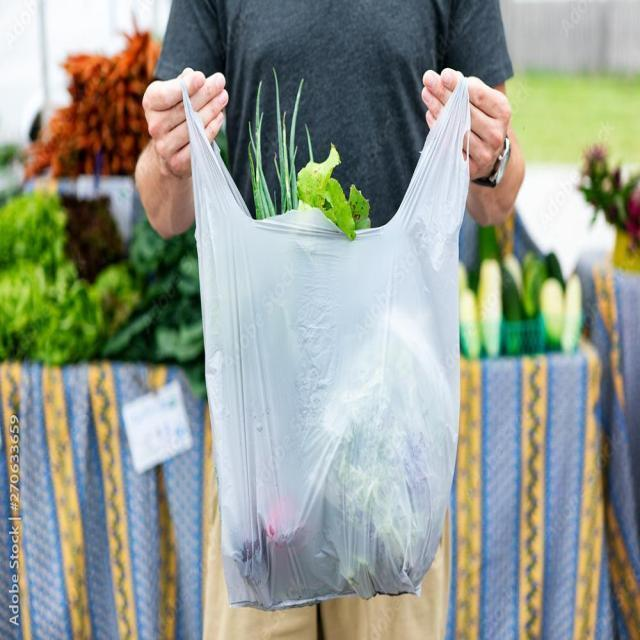Plastic_Bag: (175, 70, 470, 608)
